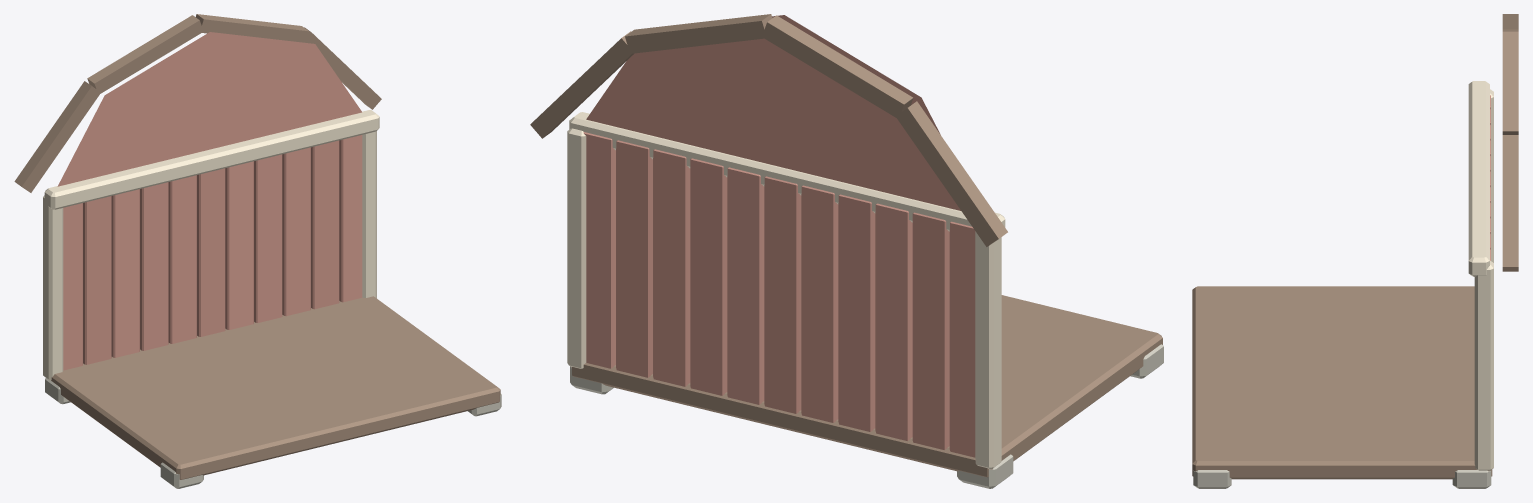
File: crafted-barn-1-ready-back.glb
3 renders of one model, left to right at view 1: azimuth 30°, elevation 25°; view 2: azimuth 150°, elevation 25°; view 3: azimuth 270°, elevation 25°, orthographic. The views are drawn at different scales.
Visible parts, largest first — view 1: floor, gable, header, siding-3, siding-1, siding-5, siding-6, siding-2, siding-7, siding-8, siding-4, siding-9 (+9 smaller); view 2: gable, floor, siding-1, siding-4, siding-5, siding-2, siding-3, siding-7, siding-6, siding-8, siding-9, siding-10 (+9 smaller); view 3: floor, header, corner-post-2, barge-board-6, barge-board-4, stone-foot-2, stone-foot-3, corner-post.
Boxes of the visible parts, box(x1,y1,x2,y2) form: floor: box(51, 296, 500, 479); gable: box(57, 32, 361, 186); header: box(44, 110, 379, 209); siding-3: box(140, 182, 168, 350); siding-1: box(83, 196, 111, 364); siding-5: box(197, 168, 225, 336); siding-6: box(225, 161, 253, 329); siding-2: box(111, 189, 139, 357); siding-7: box(254, 154, 282, 322); siding-8: box(282, 147, 310, 316); siding-4: box(168, 175, 196, 343); siding-9: box(311, 140, 339, 309); gable: box(586, 15, 960, 210); floor: box(571, 295, 1162, 477); siding-1: box(912, 212, 949, 449); siding-4: box(801, 185, 838, 422); siding-5: box(764, 176, 801, 413); siding-2: box(875, 203, 912, 440); siding-3: box(838, 194, 875, 431); siding-7: box(690, 158, 727, 395); siding-6: box(727, 167, 764, 404); siding-8: box(653, 149, 690, 386); siding-9: box(616, 140, 652, 377); siding-10: box(583, 132, 615, 368); floor: box(1192, 286, 1492, 479); header: box(1468, 81, 1489, 276); corner-post-2: box(1474, 260, 1493, 470); barge-board-6: box(1502, 135, 1518, 271); barge-board-4: box(1502, 31, 1518, 134); stone-foot-2: box(1452, 470, 1491, 488); stone-foot-3: box(1193, 470, 1231, 488); corner-post: box(1490, 89, 1493, 262).
Bounding box in the file's own units: 2.3 × 2.02 × 1.61.
